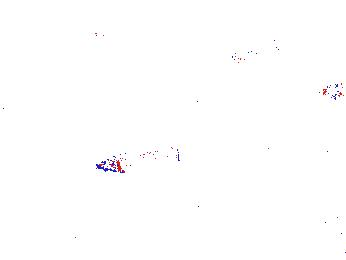X-ray fish: (68, 25, 111, 69)
glassfish: (94, 145, 183, 175)
red belly glassfish: (228, 43, 278, 64), (323, 83, 346, 102)
redtail glassfish: (254, 1, 305, 18)
